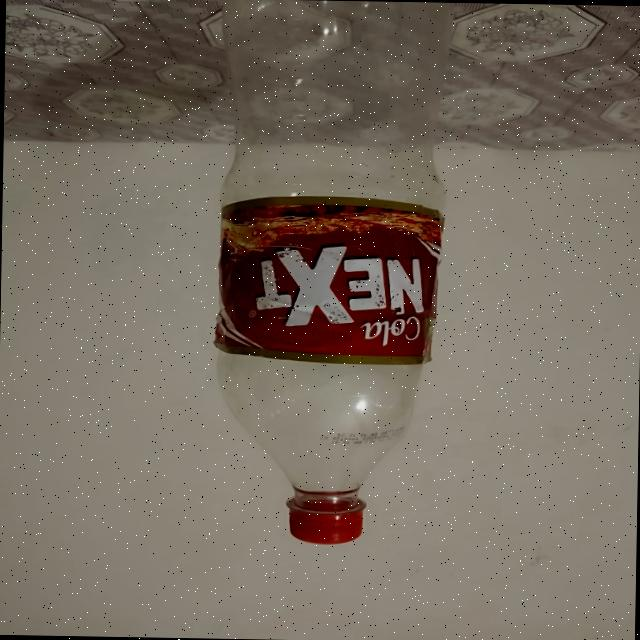bottle: (208, 0, 454, 546)
cap: (286, 508, 364, 544)
label: (210, 192, 444, 362)
